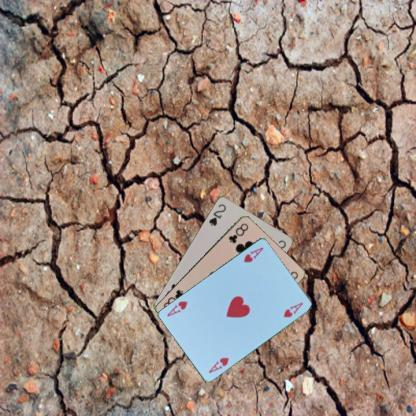2s: (206, 201, 227, 227)
8c: (226, 220, 249, 245)
Ah: (206, 354, 230, 374), (241, 245, 265, 264)
